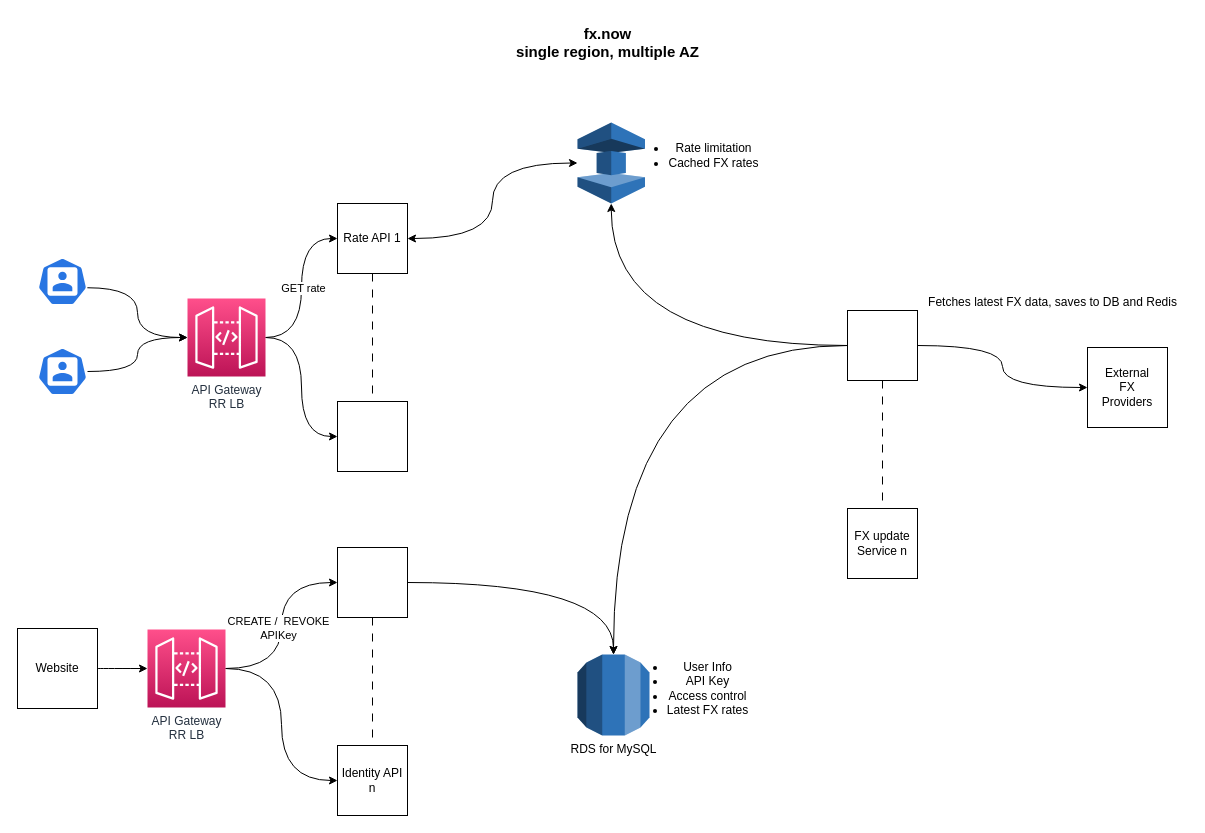
Some shapes in this 1205 by 833 pixel diagram are drawn without their labels. Each missing label, with the centre of its shape:
"Elasticache for Redis" belongs at (x=610, y=163).
"FX update Service 1" belongs at (x=882, y=345).
"Identity API 1" belongs at (x=372, y=582).
"Rate API n" belongs at (x=372, y=436).
